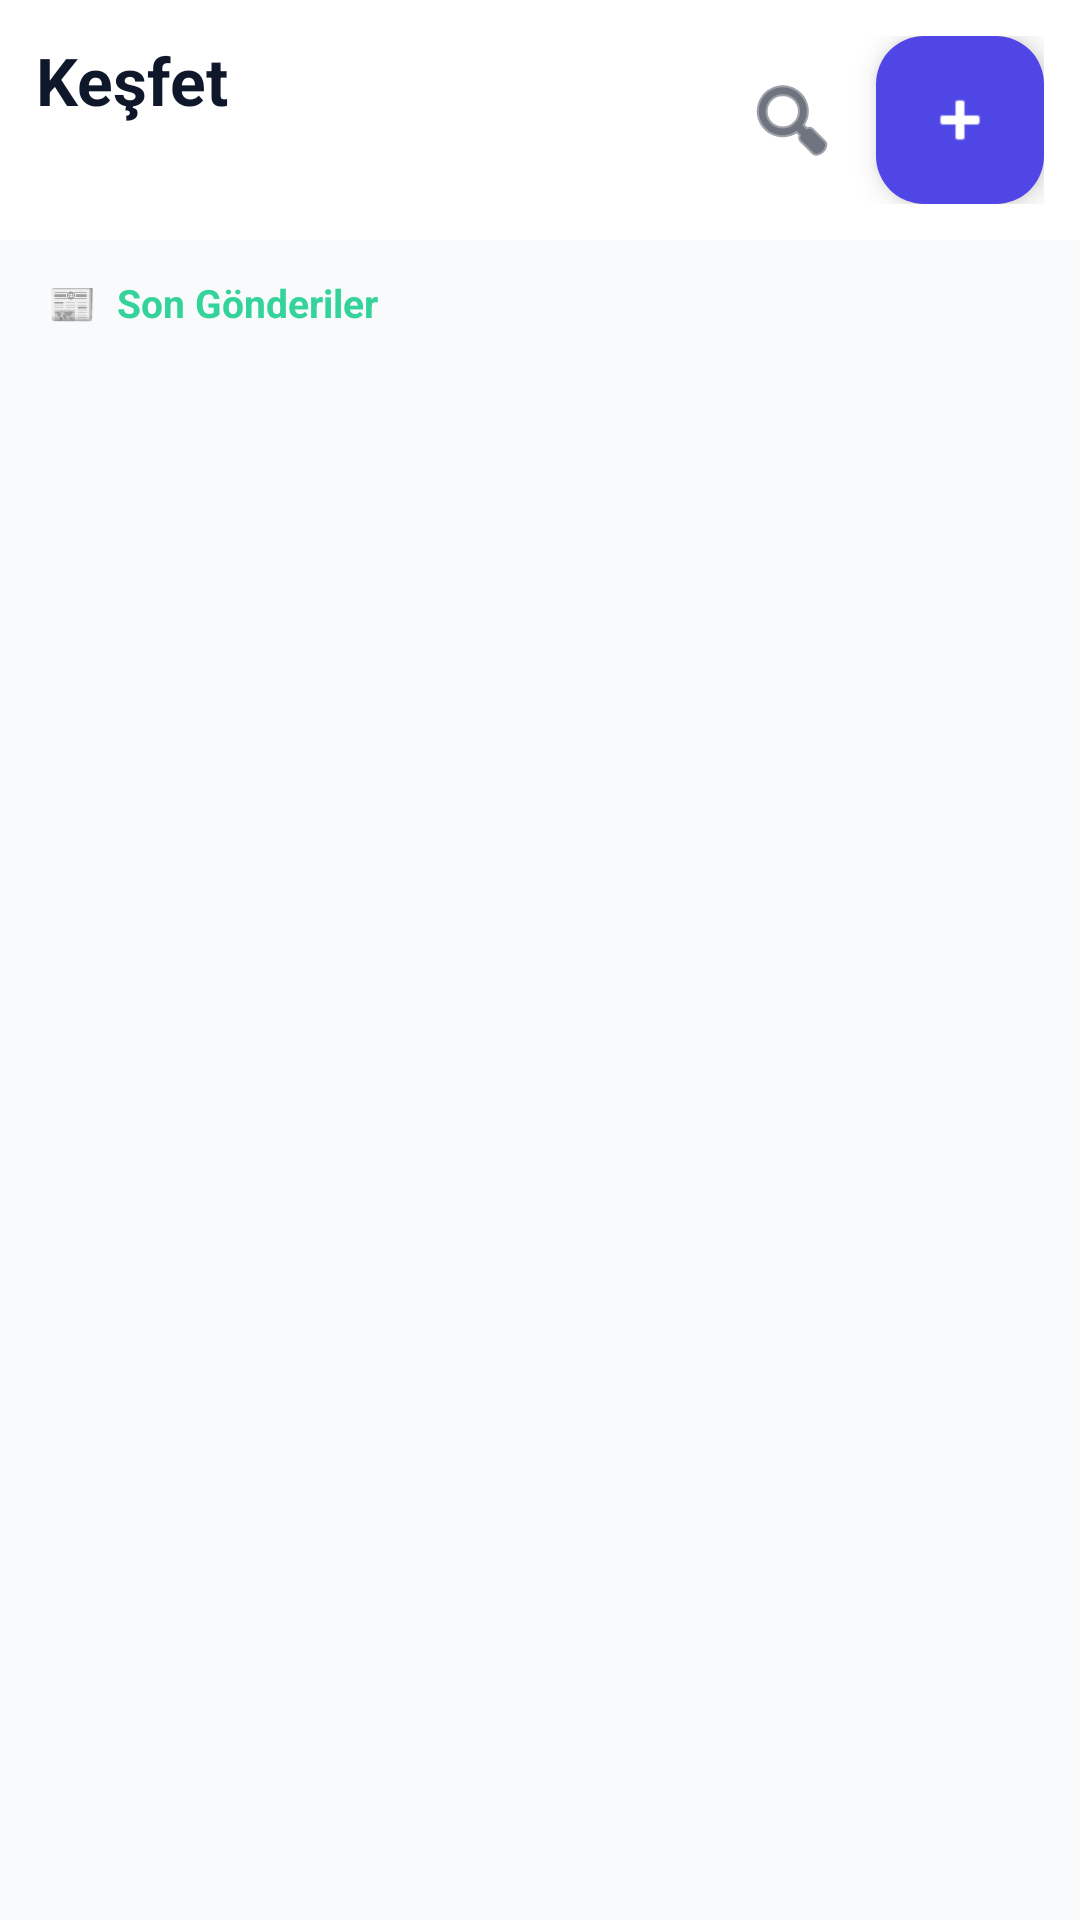

Locate icon controls on the screen. Image size 1080px×1920px, boxes as detection(x1, y1, x2, y2).
Ara: detection(756, 85, 828, 156)
